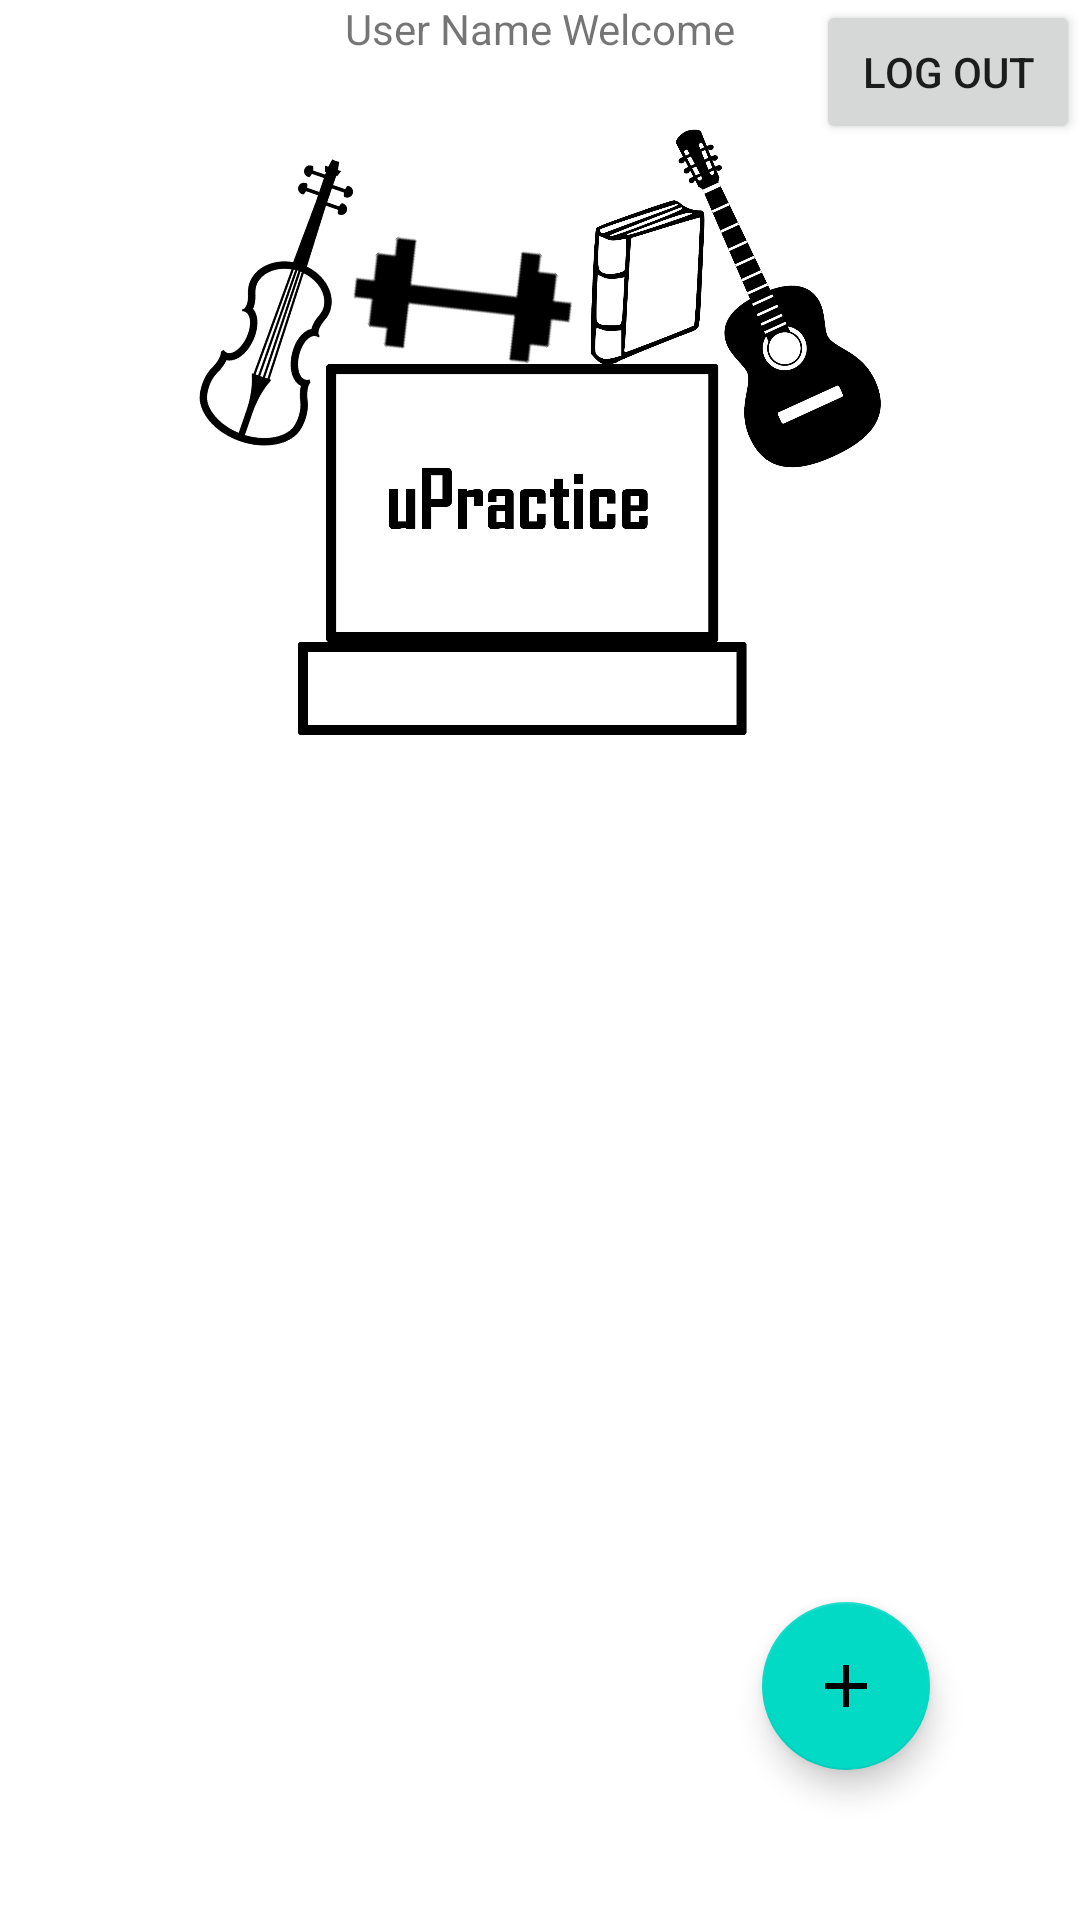

Named icons in this screenshot (1080px×1920px) and their centers, [x,y]:
add: [846,1686]
